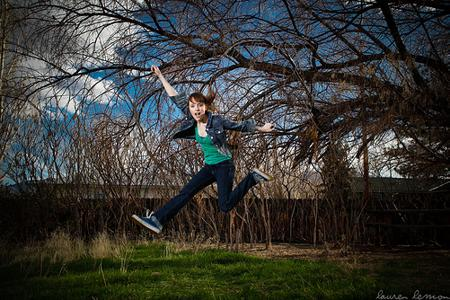person: (131, 62, 277, 236)
